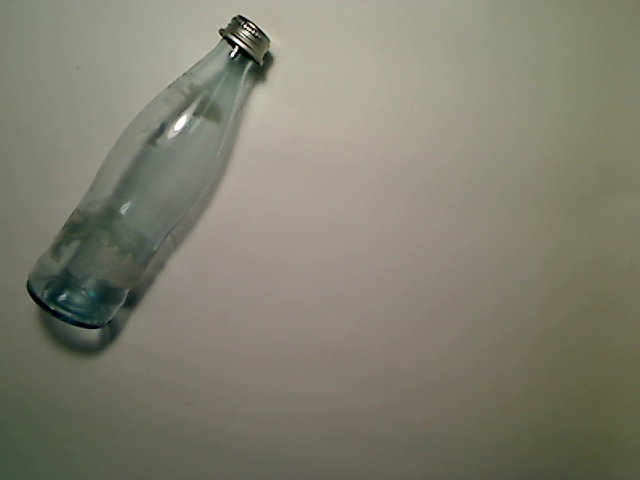bottle: (25, 14, 270, 329)
